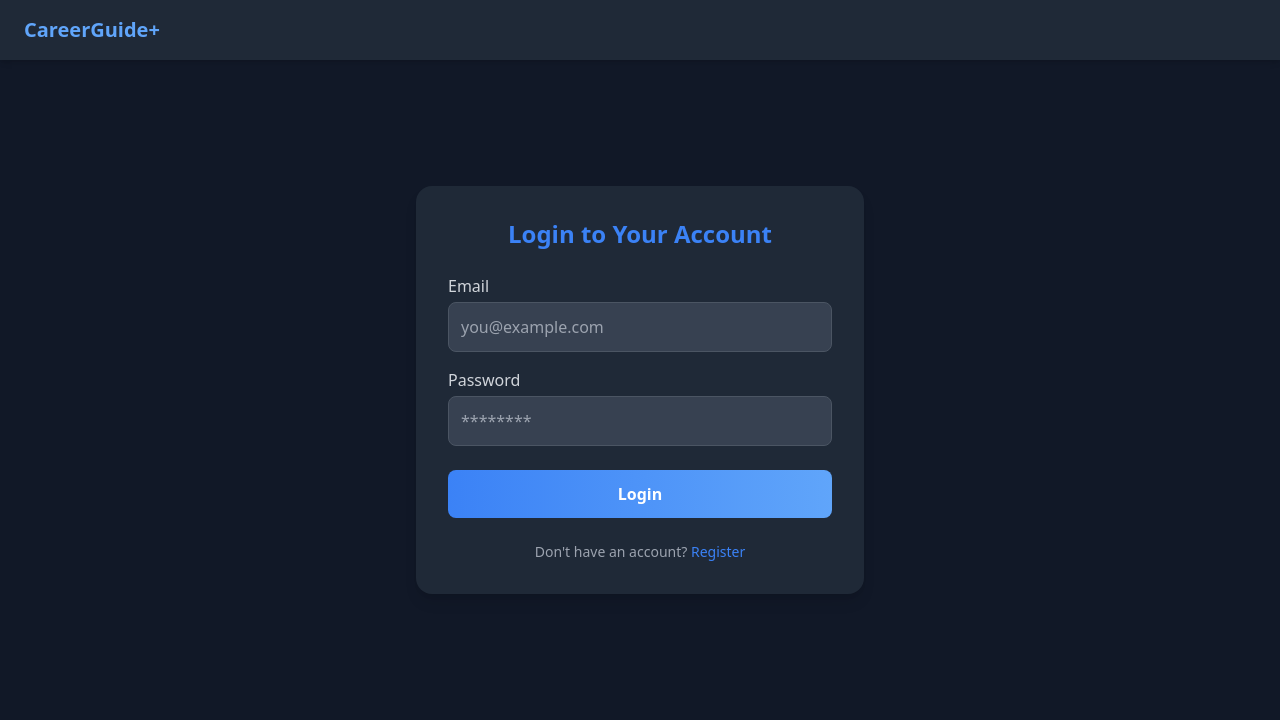
Test case: Login Page › shows error message if login fails
This screenshot has width=1280, height=720.
In the field with test id "email-input": (640, 327) [448, 302, 832, 352], type "wrong@example.com"
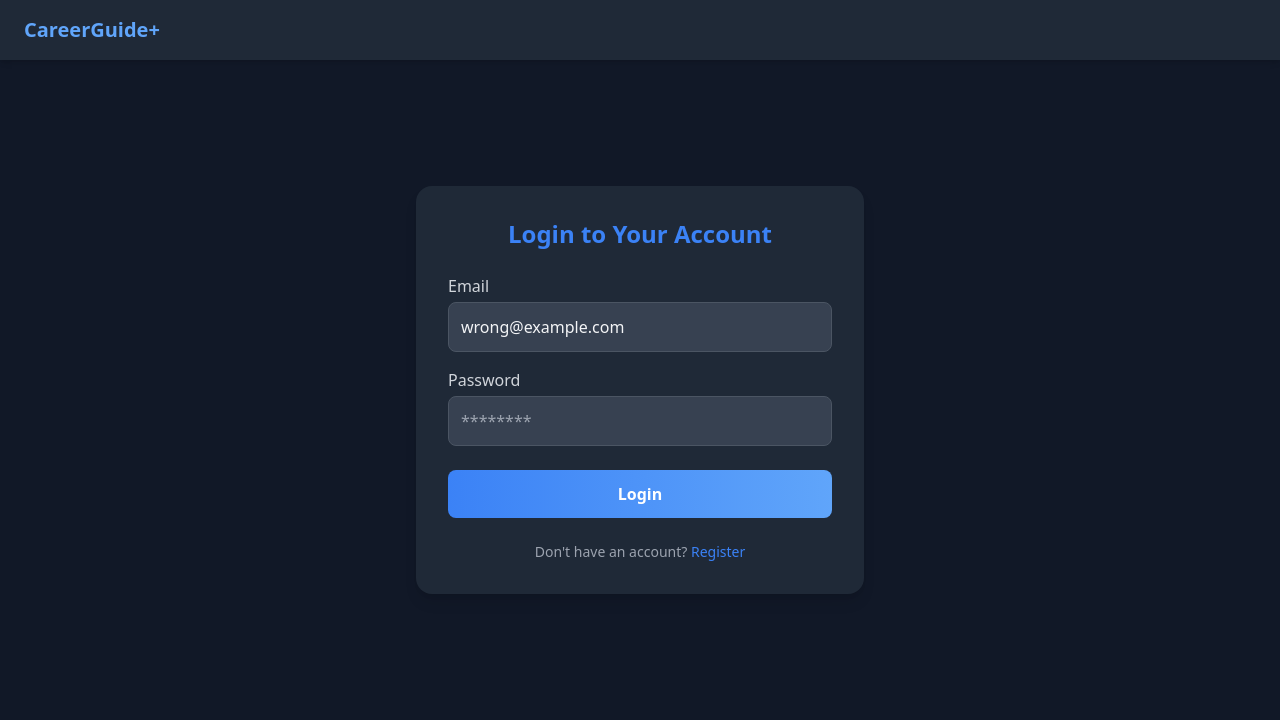
In the password field with test id "password-input": (640, 421) [448, 396, 832, 446], type "wrongpass"
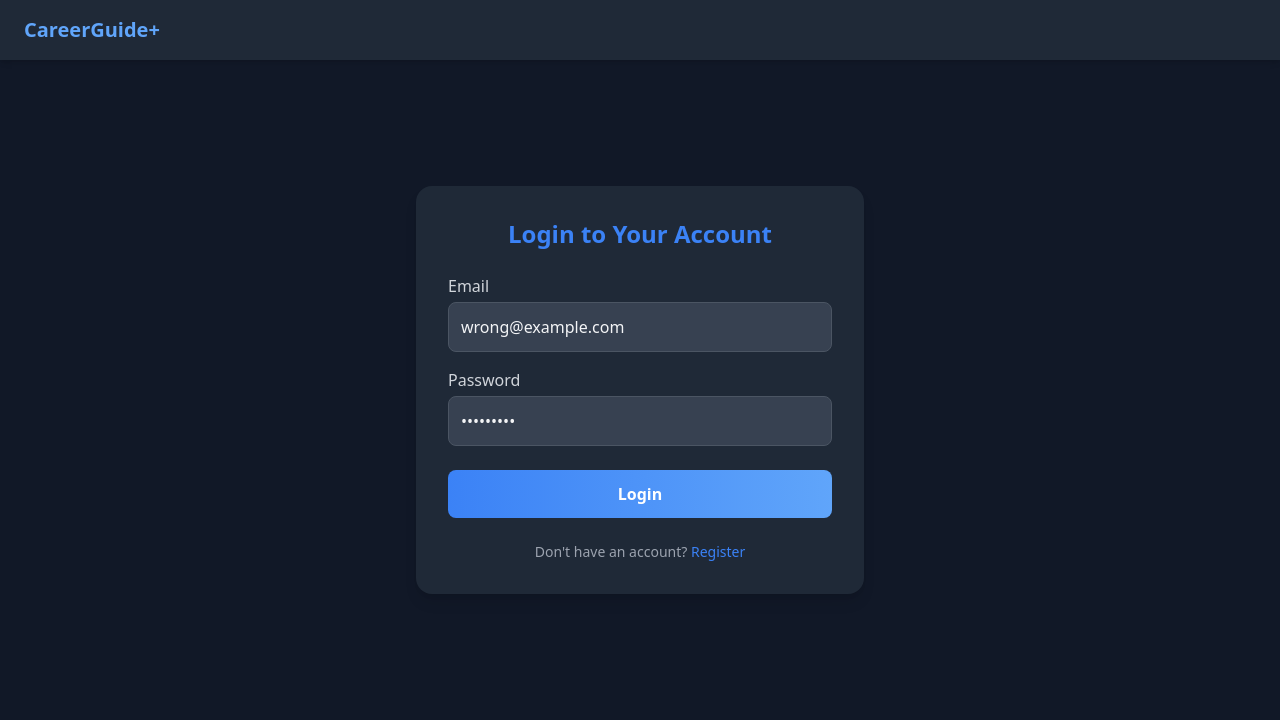
Click the button "Login": (640, 494) [448, 470, 832, 518]
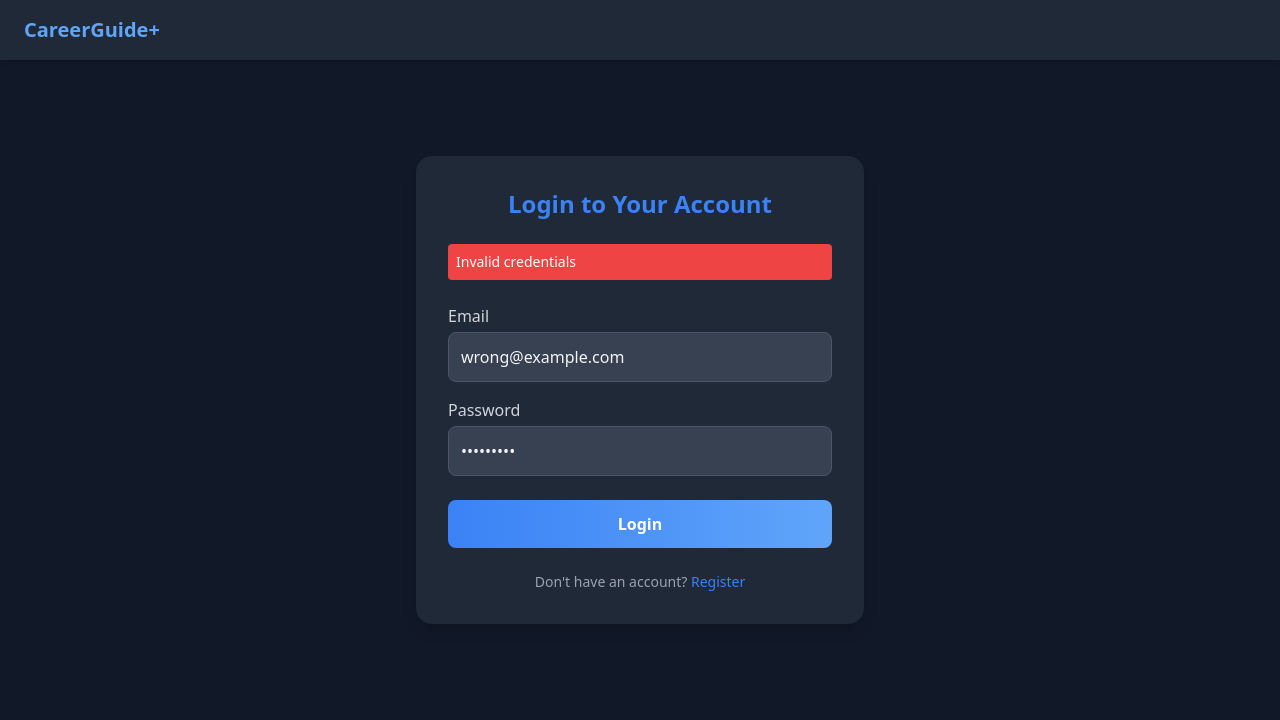
Expected: the text "Invalid credentials" is shown, [448, 244, 832, 280]
